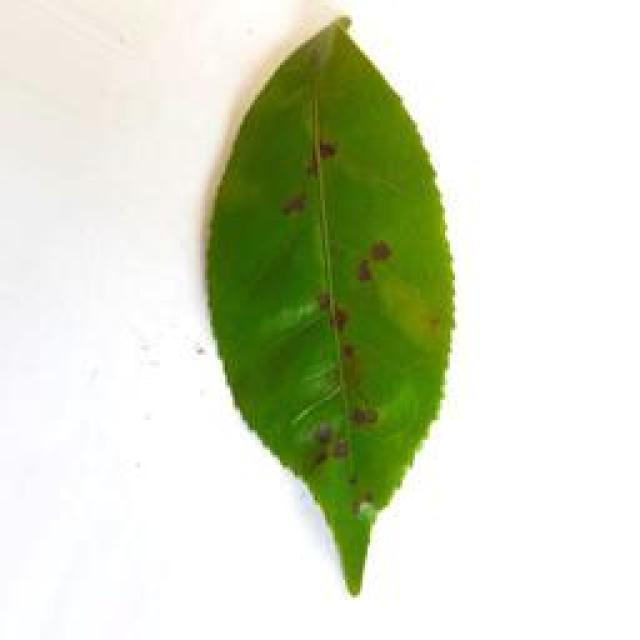Helopeltis: (210, 21, 458, 601)
